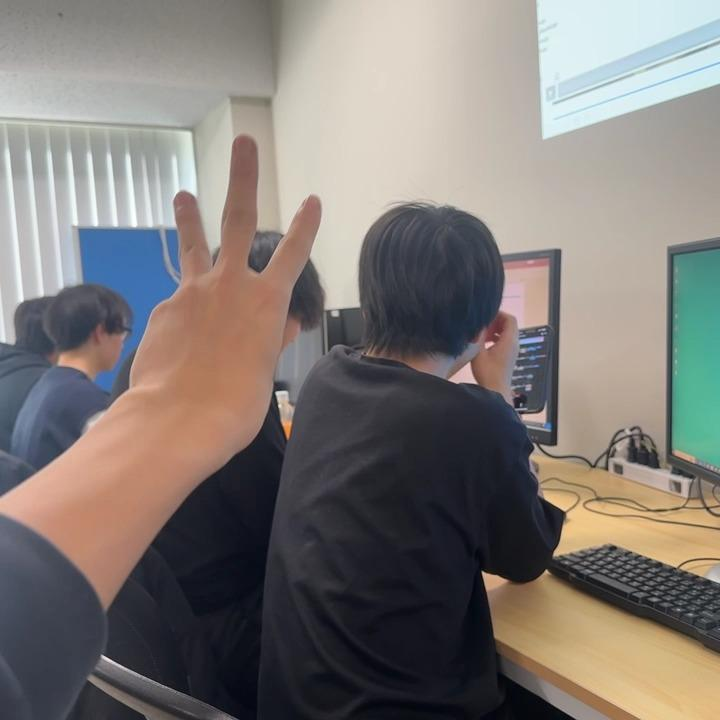without_gloves: (129, 120, 329, 445)
